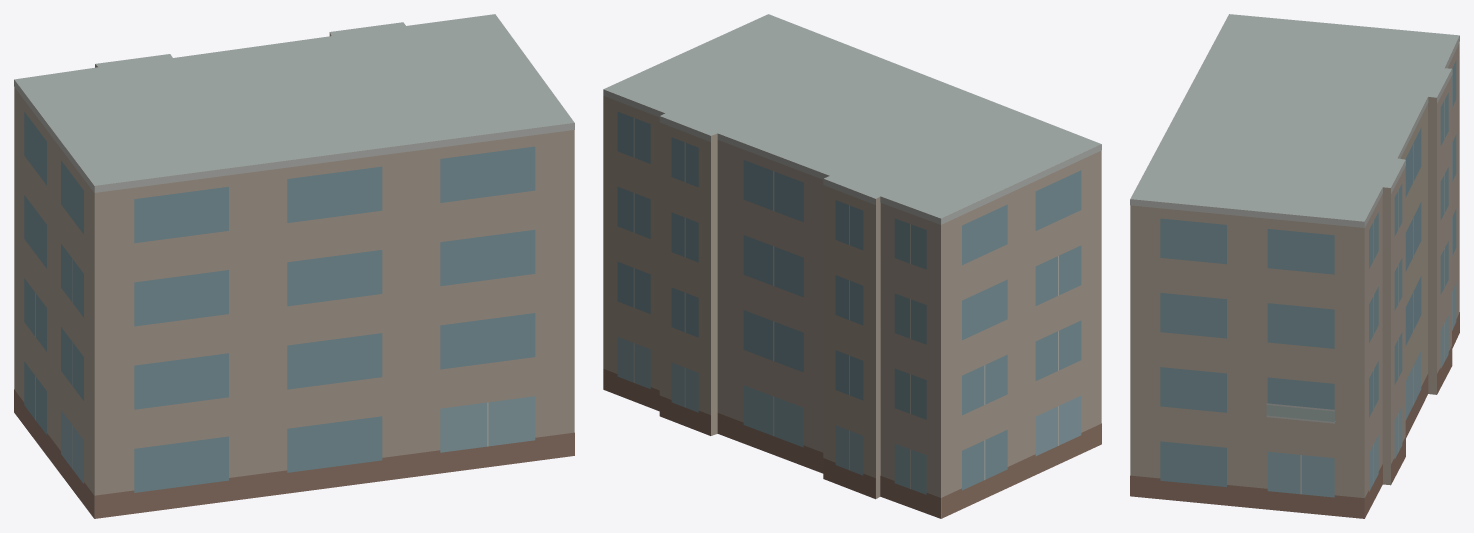
The model's file is survey-upis-32894248.glb.
The picture shows the model from 3 angles, left to right: view 1: azimuth 30°, elevation 25°; view 2: azimuth 150°, elevation 25°; view 3: azimuth 270°, elevation 25°; orthographic projection. The views are drawn at different scales.
Visible parts, largest first — view 1: survey-upis-32894248.tmp; view 2: survey-upis-32894248.tmp; view 3: survey-upis-32894248.tmp.
Part boxes in pixels (<box>): survey-upis-32894248.tmp: <box>14,14,574,518</box>; survey-upis-32894248.tmp: <box>603,14,1101,518</box>; survey-upis-32894248.tmp: <box>1130,14,1459,518</box>.
Size of the model in its own units: 17.39 by 11.6 by 11.67.
